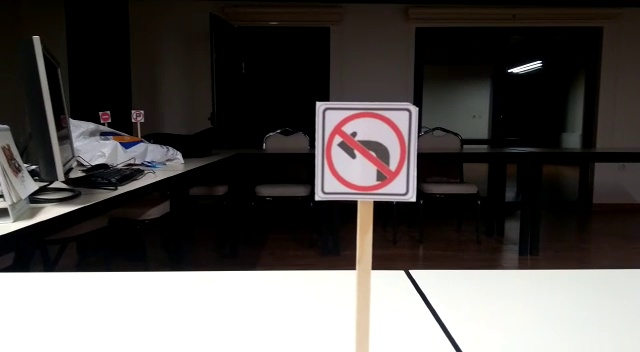sola_donulmez: (322, 109, 415, 193)
